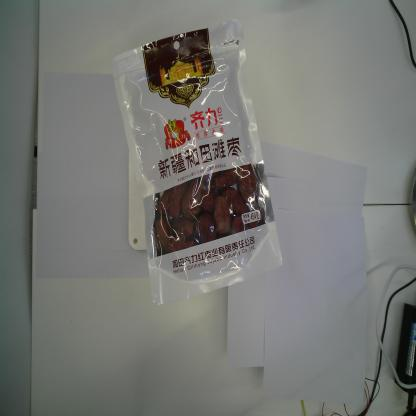Dried Food: (109, 14, 285, 309)
